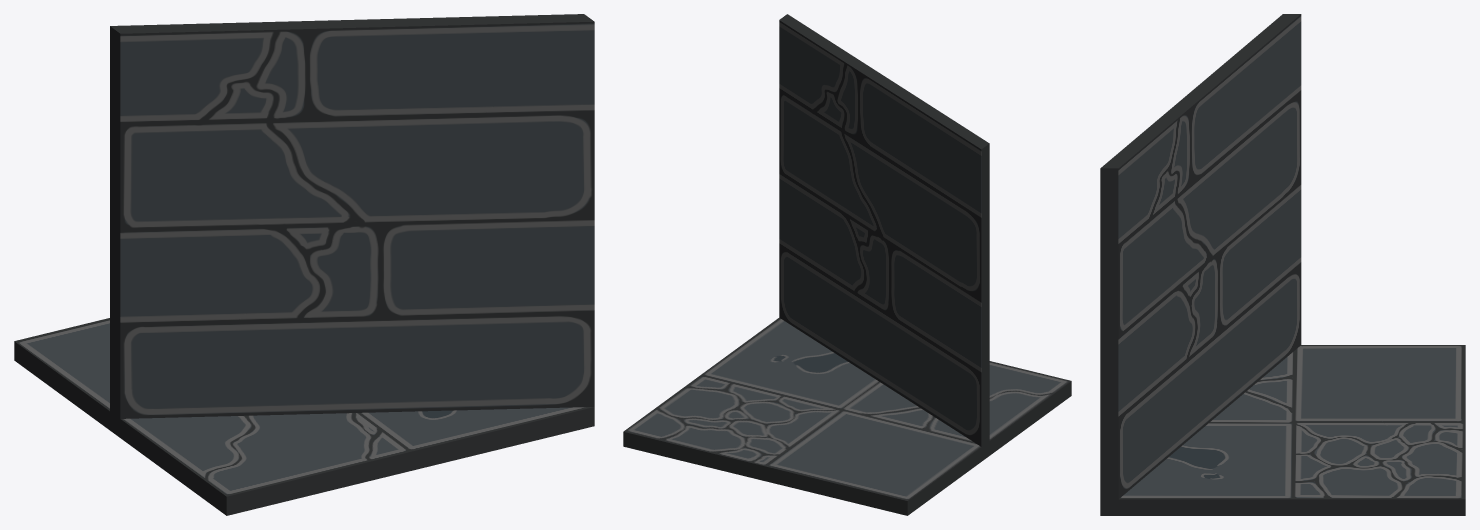
Rendered from Opening-LCURVE-SSW_v1.2.fbx.
The picture shows the model from 3 angles, left to right: view 1: azimuth 30°, elevation 25°; view 2: azimuth 150°, elevation 25°; view 3: azimuth 270°, elevation 25°; orthographic projection. The views are drawn at different scales.
Visible parts, largest first — view 1: Wall-Curved-SSW; view 2: Wall-Curved-SSW; view 3: Wall-Curved-SSW.
Part boxes in pixels (x1,y1,x2,y2): Wall-Curved-SSW: [14, 14, 594, 515]; Wall-Curved-SSW: [623, 14, 1071, 515]; Wall-Curved-SSW: [1100, 14, 1465, 515].
Bounding box in the file's own units: 100 × 100 × 105.
